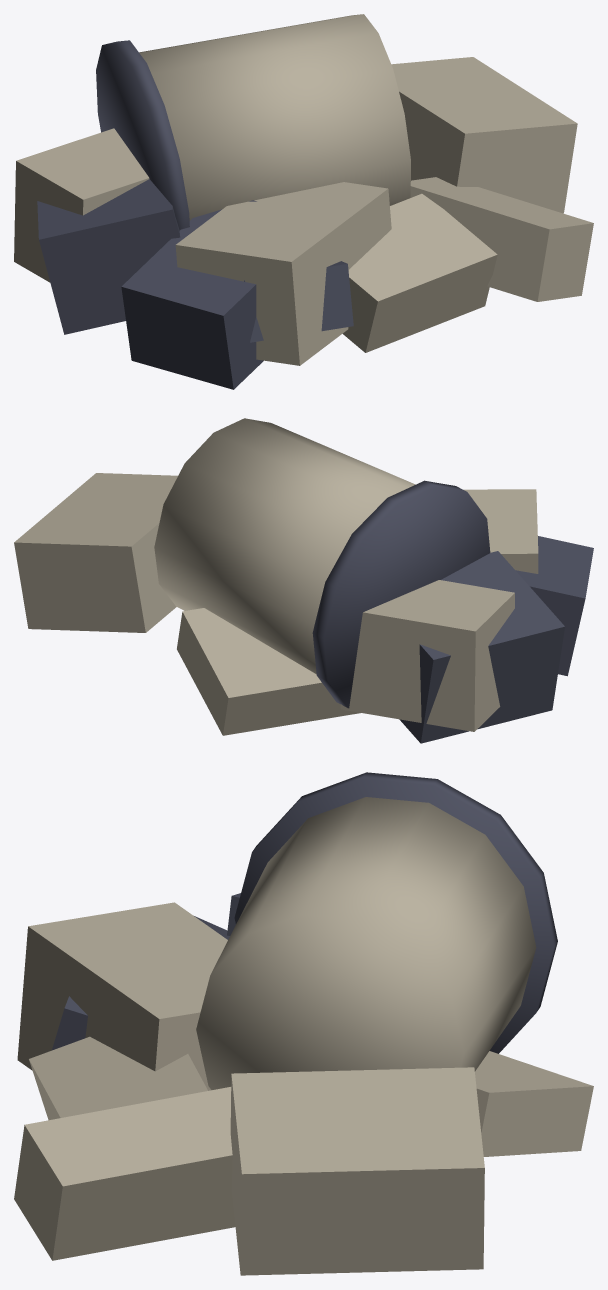
File: rubble.glb
3 renders of one model, top to bottom at view 1: azimuth 30°, elevation 25°; view 2: azimuth 150°, elevation 25°; view 3: azimuth 270°, elevation 25°, orthographic. The views are drawn at different scales.
Visible parts, largest first — view 1: Rubble; view 2: Rubble; view 3: Rubble.
Boxes of the visible parts, bbox=[...] form: Rubble: bbox=[14, 14, 593, 389]; Rubble: bbox=[14, 418, 593, 743]; Rubble: bbox=[14, 772, 593, 1275].
Bounding box in the file's own units: 3.43 × 1.48 × 2.63.
